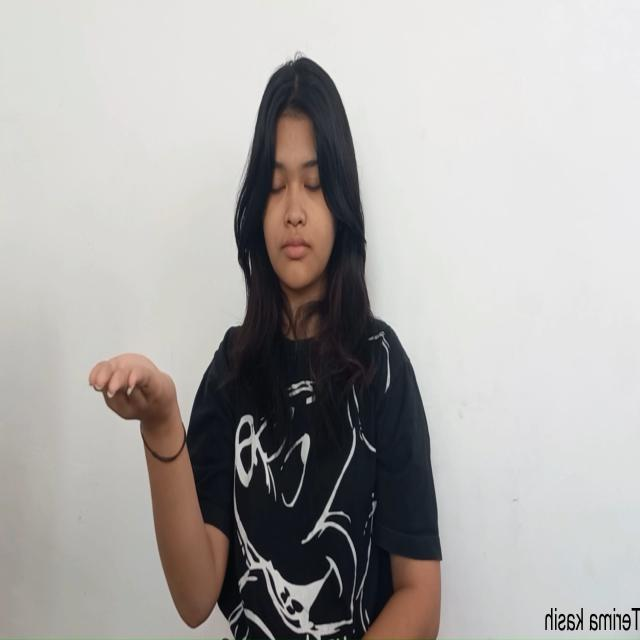Terima kasih -BISINDO-: (86, 346, 182, 442)
